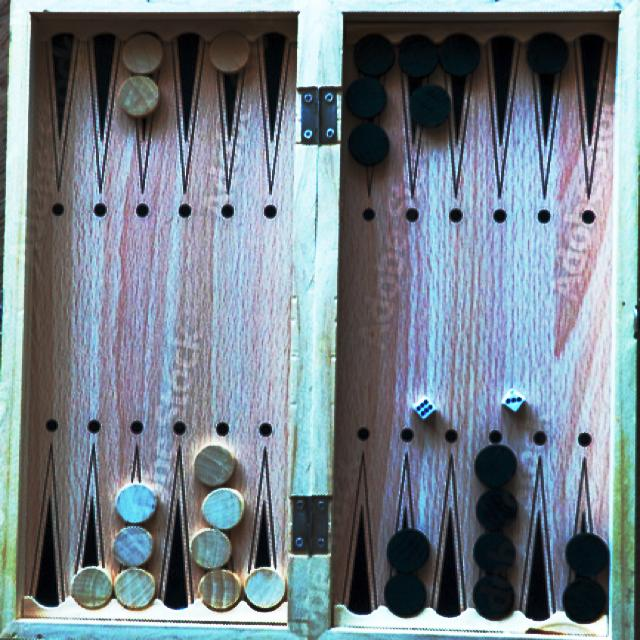bar: (285, 15, 342, 625)
board: (15, 8, 627, 630)
dark_p: (350, 26, 401, 81), (471, 439, 521, 492), (520, 27, 572, 77), (405, 81, 459, 129), (384, 525, 434, 576), (395, 29, 443, 80), (564, 529, 612, 580), (439, 27, 486, 78), (344, 122, 396, 168), (469, 575, 518, 623), (379, 572, 429, 618), (474, 486, 522, 533), (562, 576, 608, 624), (344, 73, 388, 122), (471, 530, 518, 574)
dice: (497, 384, 529, 419), (408, 394, 439, 424)
light_p: (189, 439, 243, 493), (112, 72, 167, 123), (112, 479, 164, 527), (185, 526, 237, 574), (241, 560, 289, 612), (196, 487, 251, 532), (118, 27, 166, 78), (66, 562, 116, 610), (109, 522, 159, 570), (208, 27, 254, 76), (112, 567, 160, 613), (198, 568, 246, 612)
